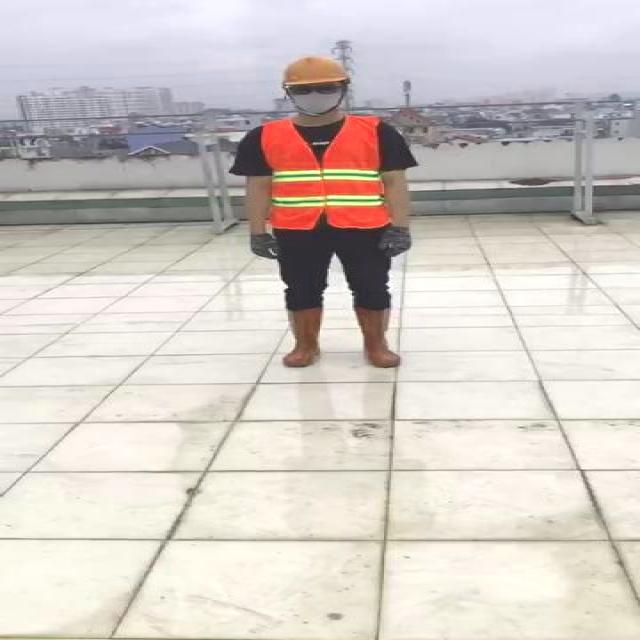boots: (350, 305, 407, 368), (281, 306, 325, 369)
face_mask: (284, 80, 346, 114)
glasses: (281, 81, 347, 98)
hand_glove: (379, 226, 414, 260), (247, 232, 283, 260)
head_helmet: (282, 52, 346, 86)
person: (226, 52, 420, 371)
vest: (260, 115, 391, 230)
